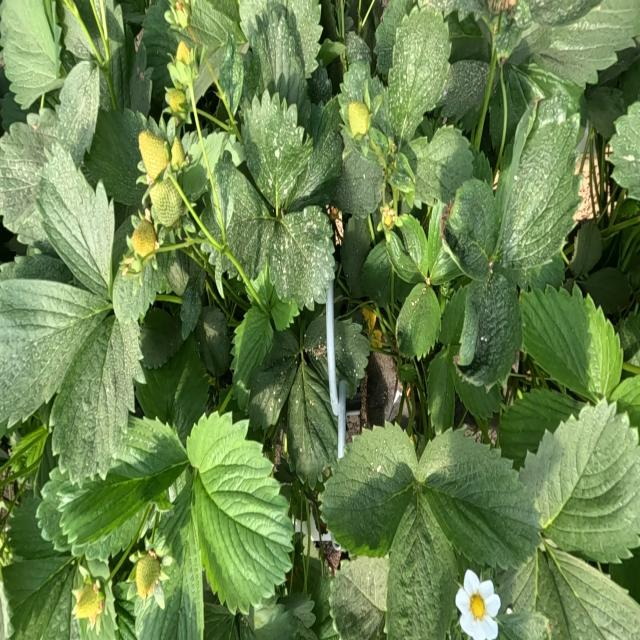Flowers: (456, 573, 499, 639)
Leaves: (188, 413, 292, 612), (520, 402, 639, 560), (59, 416, 187, 559), (495, 88, 583, 278), (420, 428, 539, 568), (0, 278, 107, 428), (53, 315, 140, 481), (323, 423, 418, 553), (36, 144, 114, 296), (521, 285, 622, 399), (138, 469, 203, 638), (386, 489, 458, 639), (542, 544, 639, 639), (530, 0, 639, 84), (387, 6, 451, 144), (240, 0, 323, 105), (242, 91, 312, 211), (202, 153, 266, 283), (63, 0, 134, 108), (137, 337, 210, 435), (462, 272, 521, 387), (268, 208, 335, 308), (499, 386, 580, 466), (1, 0, 60, 107), (2, 554, 76, 638), (286, 361, 335, 486), (89, 108, 147, 206), (1, 123, 47, 243), (293, 97, 342, 204), (449, 179, 499, 279), (329, 556, 387, 639), (55, 61, 99, 165), (415, 126, 473, 204), (142, 0, 185, 92), (8, 494, 62, 561), (111, 30, 151, 116), (249, 357, 298, 427), (232, 304, 274, 384), (396, 282, 440, 358), (438, 60, 490, 123), (332, 152, 383, 216), (241, 596, 316, 639), (333, 318, 370, 398), (113, 258, 159, 322), (609, 103, 639, 201), (385, 215, 427, 283), (36, 469, 70, 551), (374, 0, 411, 75), (139, 308, 182, 367), (366, 353, 401, 425), (195, 307, 231, 376), (341, 215, 371, 295), (427, 349, 455, 433), (504, 65, 533, 145), (582, 268, 631, 314), (339, 60, 384, 108), (361, 240, 391, 308), (587, 87, 626, 139), (609, 374, 640, 437), (179, 134, 208, 201), (304, 311, 327, 386), (204, 591, 239, 639), (571, 220, 602, 274), (202, 132, 242, 169), (181, 269, 201, 339), (426, 202, 443, 279), (529, 255, 564, 289), (346, 31, 371, 65), (490, 89, 502, 148)
Strawberries: (151, 179, 183, 226), (140, 132, 167, 181), (73, 582, 103, 625), (130, 218, 156, 258), (136, 555, 159, 597), (348, 103, 369, 135), (165, 89, 185, 111), (176, 42, 190, 63), (172, 140, 183, 166), (382, 208, 394, 229), (364, 310, 375, 328)
